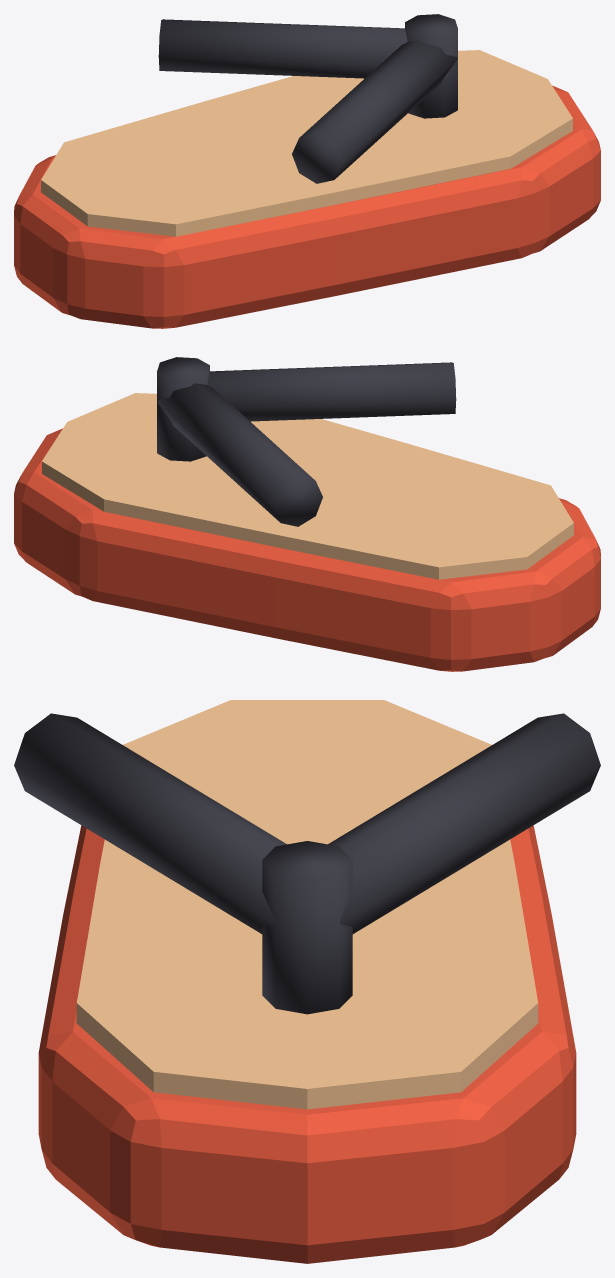
Rendered from slippah.glb.
3 renders of one model, top to bottom at view 1: azimuth 30°, elevation 25°; view 2: azimuth 150°, elevation 25°; view 3: azimuth 270°, elevation 25°, orthographic. The views are drawn at different scales.
Parts seen in each view (by area): view 1: slippah; view 2: slippah; view 3: slippah.
Part boxes in pixels (<box>): slippah: <box>14,14,600,328</box>; slippah: <box>14,357,600,671</box>; slippah: <box>14,700,600,1263</box>.
Bounding box in the file's own units: 1.13 × 0.37 × 0.6487.
